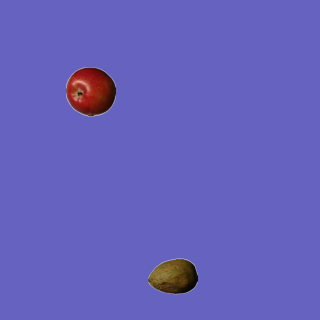Apple Braeburn: (65, 66, 115, 116)
Papaya: (147, 251, 197, 301)
